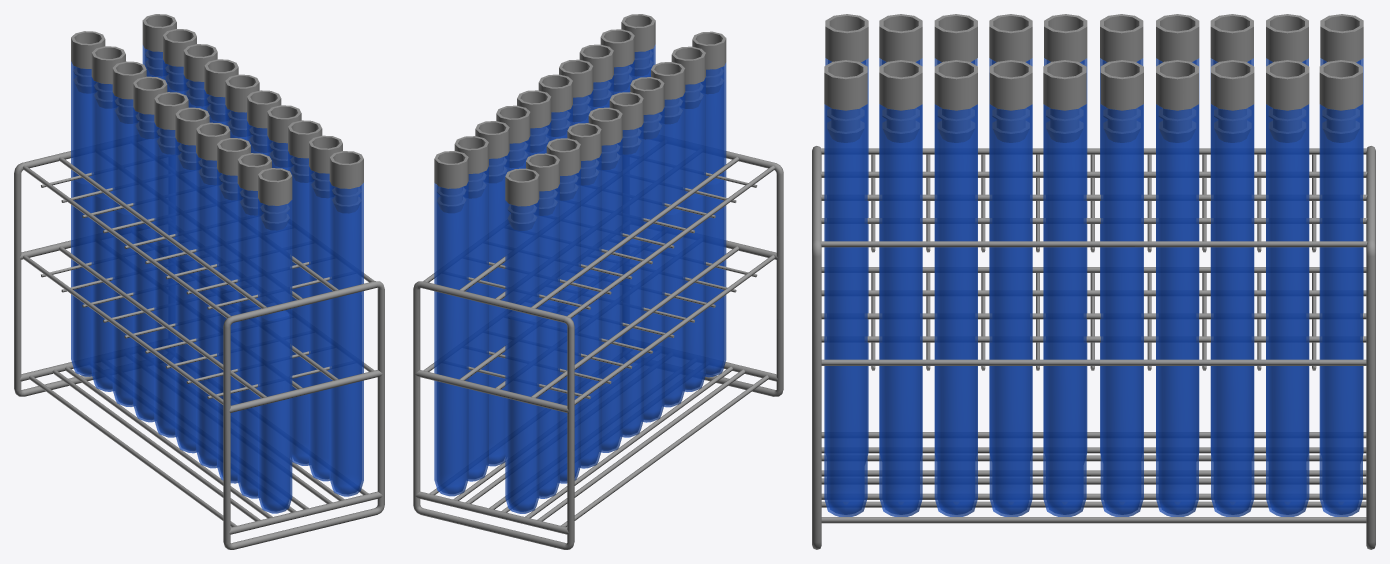
File: SM_Test_Tube_Pattern2_LOD0.FBX
3 views of the same model, side by side, from view 1: azimuth 30°, elevation 25°; view 2: azimuth 150°, elevation 25°; view 3: azimuth 270°, elevation 25° (orthographic). The views are drawn at different scales.
Visible parts, largest first — view 1: SM_Test_Tube_Pattern02; view 2: SM_Test_Tube_Pattern02; view 3: SM_Test_Tube_Pattern02.
Part boxes in pixels (bbox=[...]): SM_Test_Tube_Pattern02: bbox=[14, 14, 384, 549]; SM_Test_Tube_Pattern02: bbox=[413, 14, 783, 549]; SM_Test_Tube_Pattern02: bbox=[812, 14, 1375, 549].
Size of the model in its own units: 0.0861 by 0.1812 by 0.198.
